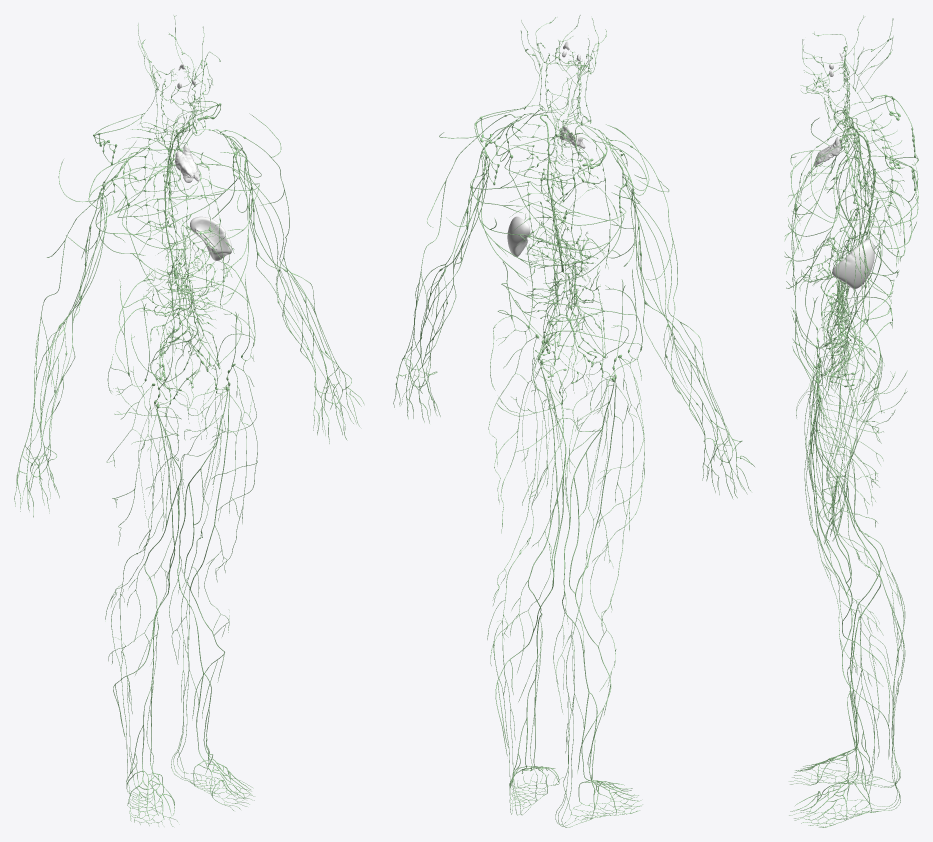
The model's file is male-2024-lymphatic-system.glb.
The picture shows the model from 3 angles, left to right: view 1: azimuth 30°, elevation 25°; view 2: azimuth 150°, elevation 25°; view 3: azimuth 270°, elevation 25°; orthographic projection. The views are drawn at different scales.
Visible parts, largest first — view 1: Anteromedial Superficial Lymph Vessels of Lower Limb (×2), Superficial Lymph Vessels of Thoracic Wall (×2), Superficial Lymph Vessels of Forearm (×2), Posterolateral Superficial Lymph Vessels of Lower Limb (×2), Superficial Lymph Vessels of Arm (×2), Spleen; view 2: Anteromedial Superficial Lymph Vessels of Lower Limb (×2), Superficial Lymph Vessels of Thoracic Wall (×2), Posterolateral Superficial Lymph Vessels of Lower Limb (×2), Superficial Lymph Vessels of Forearm (×2), Superficial Lymph Vessels of Arm (×2), Spleen; view 3: Anteromedial Superficial Lymph Vessels of Lower Limb (×2), Posterolateral Superficial Lymph Vessels of Lower Limb (×2), Superficial Lymph Vessels of Thoracic Wall (×2), Superficial Lymph Vessels of Arm (×2), Superficial Lymph Vessels of Forearm (×2), Spleen, Superficial Lymph Vessels of Abdominal Wall (×2), Intercostal Lymphatic Trunks (×2), Deep Lymph Vessels of Forearm, Thymus, Superficial Lymph Vessels of Hand.
Part boxes in pixels (x1=…): Anteromedial Superficial Lymph Vessels of Lower Limb (×2): x1=106, y1=298, x2=257, y2=826; Superficial Lymph Vessels of Thoracic Wall (×2): x1=88, y1=136, x2=261, y2=311; Superficial Lymph Vessels of Forearm (×2): x1=26, y1=239, x2=338, y2=443; Posterolateral Superficial Lymph Vessels of Lower Limb (×2): x1=105, y1=539, x2=255, y2=825; Superficial Lymph Vessels of Arm (×2): x1=46, y1=113, x2=289, y2=314; Spleen: x1=190, y1=216, x2=232, y2=260; Anteromedial Superficial Lymph Vessels of Lower Limb (×2): x1=488, y1=310, x2=644, y2=826; Superficial Lymph Vessels of Thoracic Wall (×2): x1=470, y1=109, x2=649, y2=290; Posterolateral Superficial Lymph Vessels of Lower Limb (×2): x1=487, y1=554, x2=642, y2=827; Superficial Lymph Vessels of Forearm (×2): x1=405, y1=246, x2=728, y2=439; Superficial Lymph Vessels of Arm (×2): x1=426, y1=116, x2=677, y2=312; Spleen: x1=507, y1=216, x2=530, y2=256; Anteromedial Superficial Lymph Vessels of Lower Limb (×2): x1=789, y1=296, x2=907, y2=822; Posterolateral Superficial Lymph Vessels of Lower Limb (×2): x1=800, y1=536, x2=905, y2=827; Superficial Lymph Vessels of Thoracic Wall (×2): x1=784, y1=117, x2=918, y2=288; Superficial Lymph Vessels of Arm (×2): x1=833, y1=100, x2=898, y2=336; Superficial Lymph Vessels of Forearm (×2): x1=827, y1=212, x2=882, y2=475; Spleen: x1=832, y1=239, x2=874, y2=288; Superficial Lymph Vessels of Abdominal Wall (×2): x1=792, y1=245, x2=894, y2=385; Intercostal Lymphatic Trunks (×2): x1=848, y1=113, x2=904, y2=257; Deep Lymph Vessels of Forearm: x1=830, y1=350, x2=870, y2=477; Thymus: x1=814, y1=137, x2=841, y2=165; Superficial Lymph Vessels of Hand: x1=823, y1=467, x2=848, y2=516.
Bounding box in the file's own units: 30.14 × 63.72 × 10.05.
